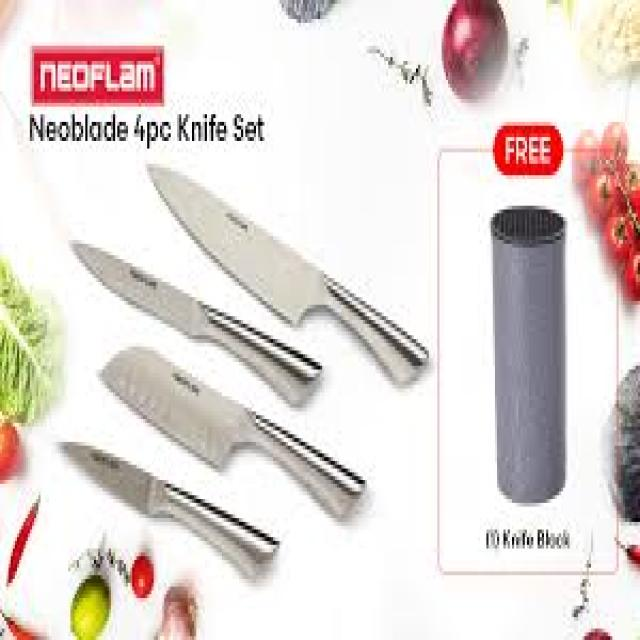knives: (133, 146, 406, 336)
